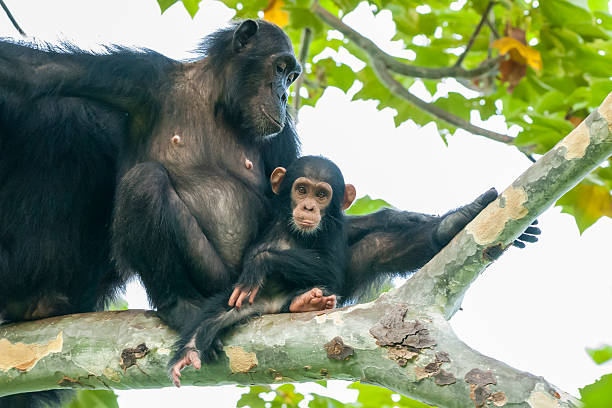chimpanzee: (217, 14, 308, 136), (260, 151, 359, 249)
